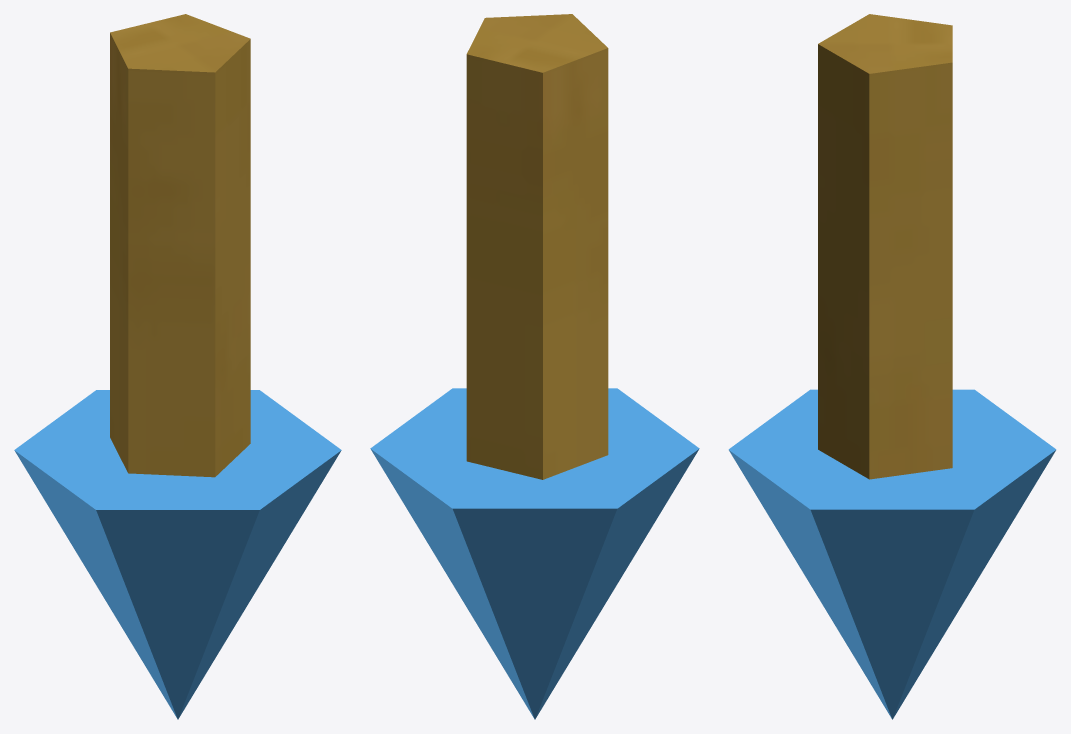
File: acc_earring.glb
3 renders of one model, left to right at view 1: azimuth 30°, elevation 25°; view 2: azimuth 150°, elevation 25°; view 3: azimuth 270°, elevation 25°, orthographic.
Visible parts, largest first — view 1: acc_earring; view 2: acc_earring; view 3: acc_earring.
Part boxes in pixels (left/top/right/bottom): acc_earring: left=14, top=14, right=341, bottom=719; acc_earring: left=370, top=14, right=699, bottom=719; acc_earring: left=728, top=14, right=1056, bottom=719.
Bounding box in the file's own units: 0.0381 × 0.1 × 0.044.
2 materials, 1 textured.
